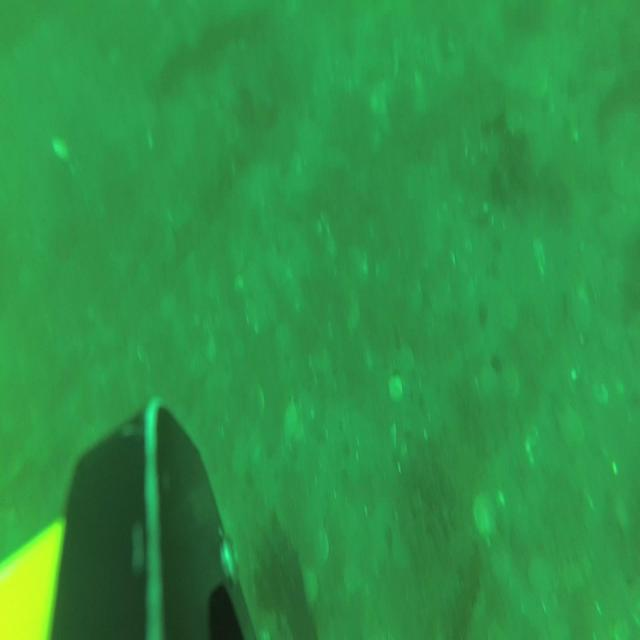scallop: (471, 487, 499, 537), (558, 401, 584, 450), (527, 556, 553, 596), (298, 563, 320, 609), (389, 528, 412, 570), (498, 293, 521, 335), (477, 360, 498, 401), (313, 522, 331, 568), (502, 365, 520, 401), (397, 340, 415, 374), (248, 383, 266, 417), (50, 134, 70, 162), (386, 374, 405, 403)
